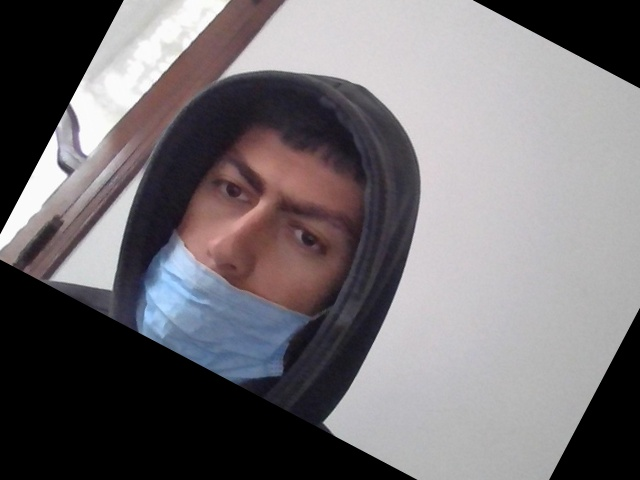mask_weared_incorrect: (147, 123, 352, 392)
